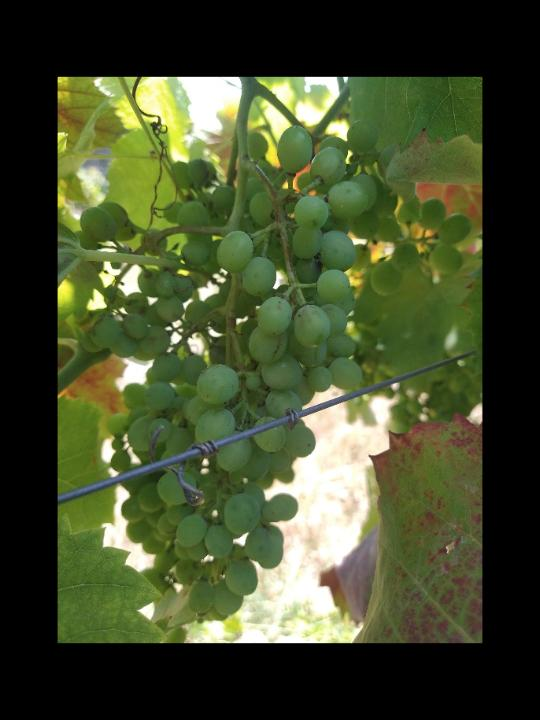grape: (76, 122, 475, 624)
